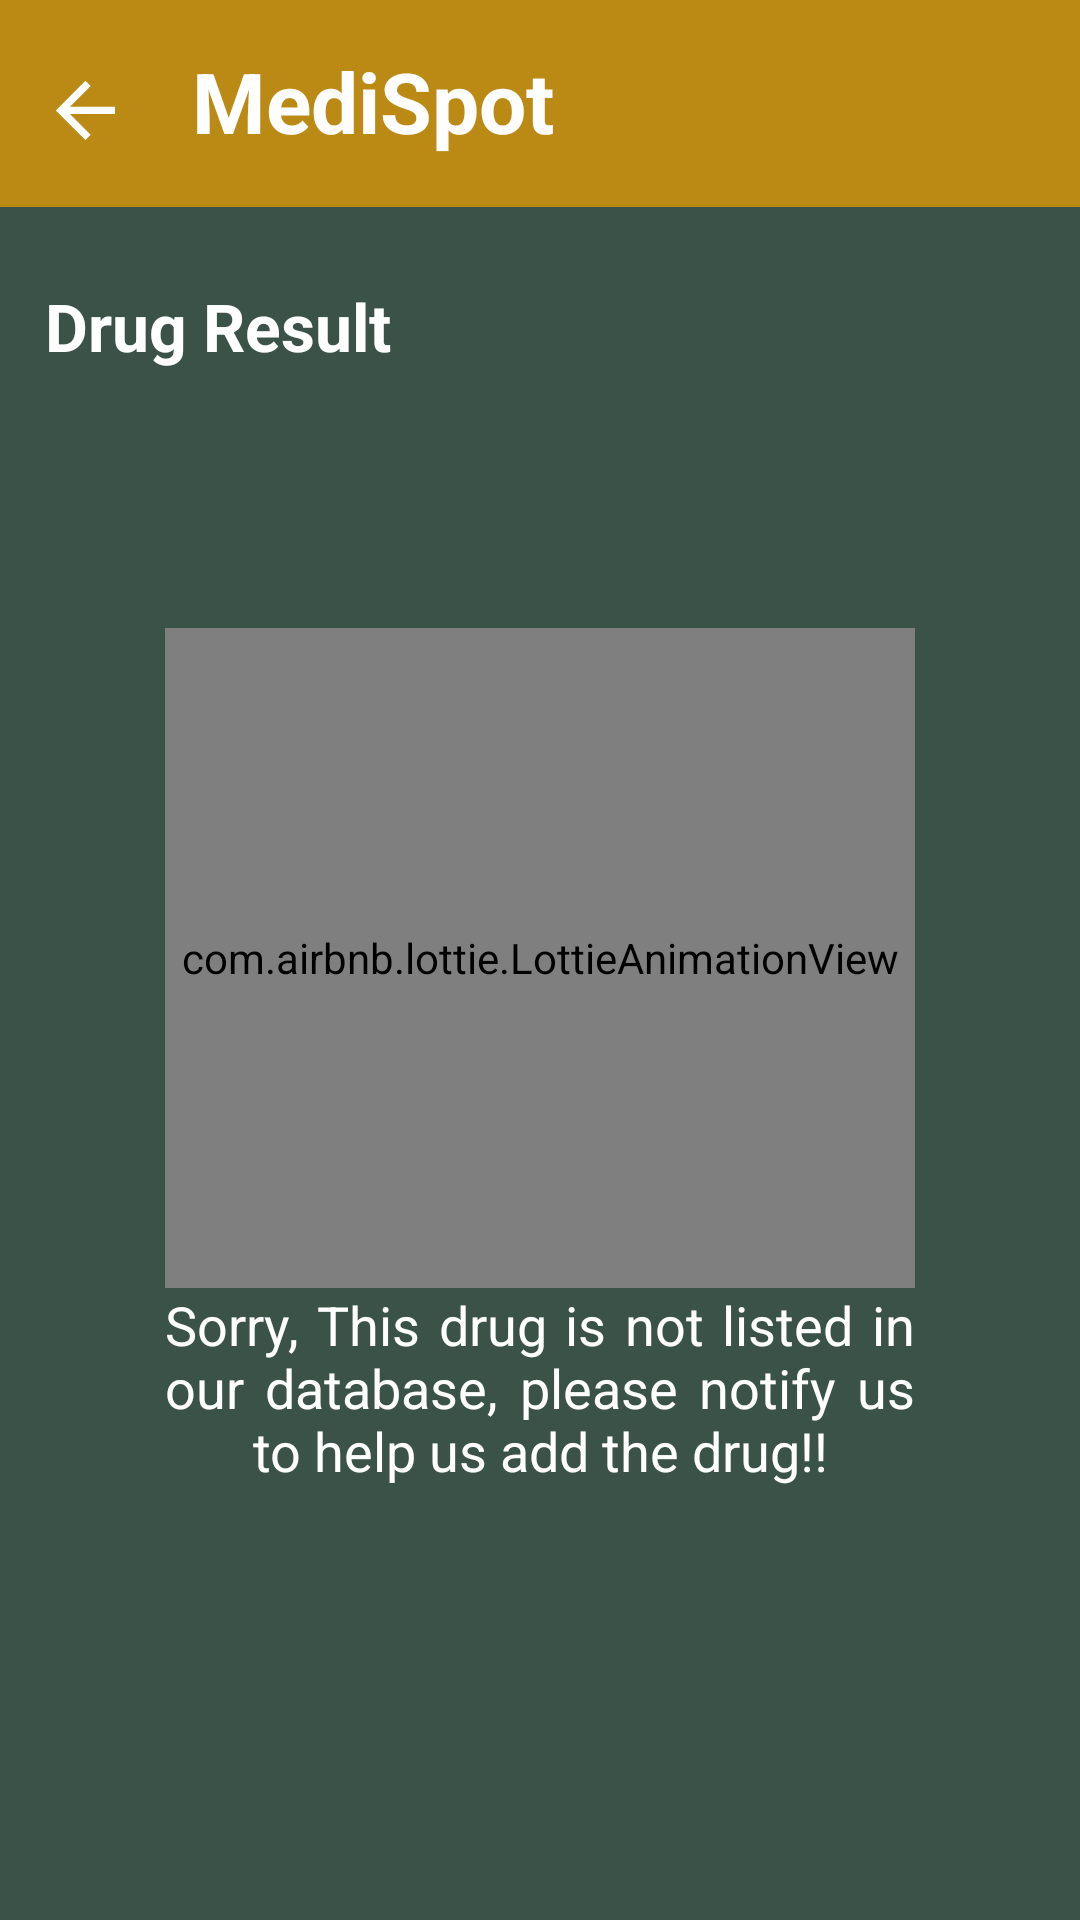

Screen size 1080w x 1920h. Icon name, then its center in pixels as (x,y):
arrow back: (85,110)
